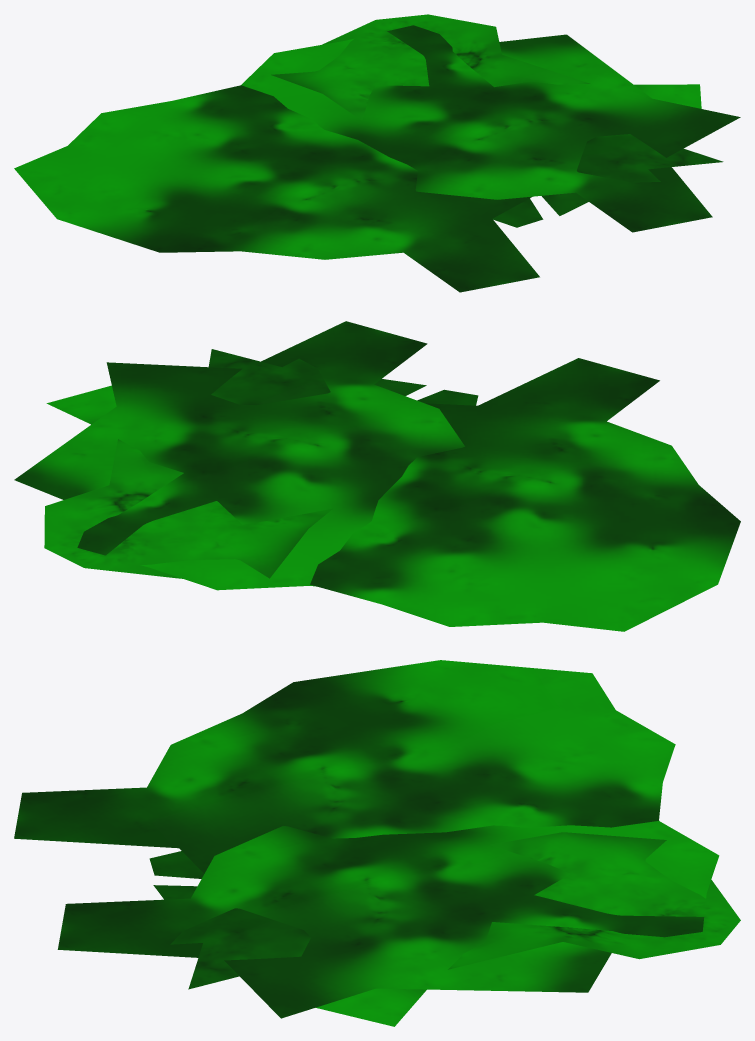
File: White Everlasting_LOD1_Var15_ucvobbbia.glb
The picture shows the model from 3 angles, top to bottom: view 1: azimuth 30°, elevation 25°; view 2: azimuth 150°, elevation 25°; view 3: azimuth 270°, elevation 25°; orthographic projection. The views are drawn at different scales.
Parts seen in each view (by area): view 1: _de51_Var15_LOD1; view 2: _de51_Var15_LOD1; view 3: _de51_Var15_LOD1.
Boxes of the visible parts, left/top/right/bottom form: _de51_Var15_LOD1: left=14, top=14, right=740, bottom=292; _de51_Var15_LOD1: left=14, top=321, right=740, bottom=631; _de51_Var15_LOD1: left=14, top=660, right=740, bottom=1026.
Bounding box in the file's own units: 0.4519 × 0.0106 × 0.3826.
Materials: 1 (1 with a texture image).
